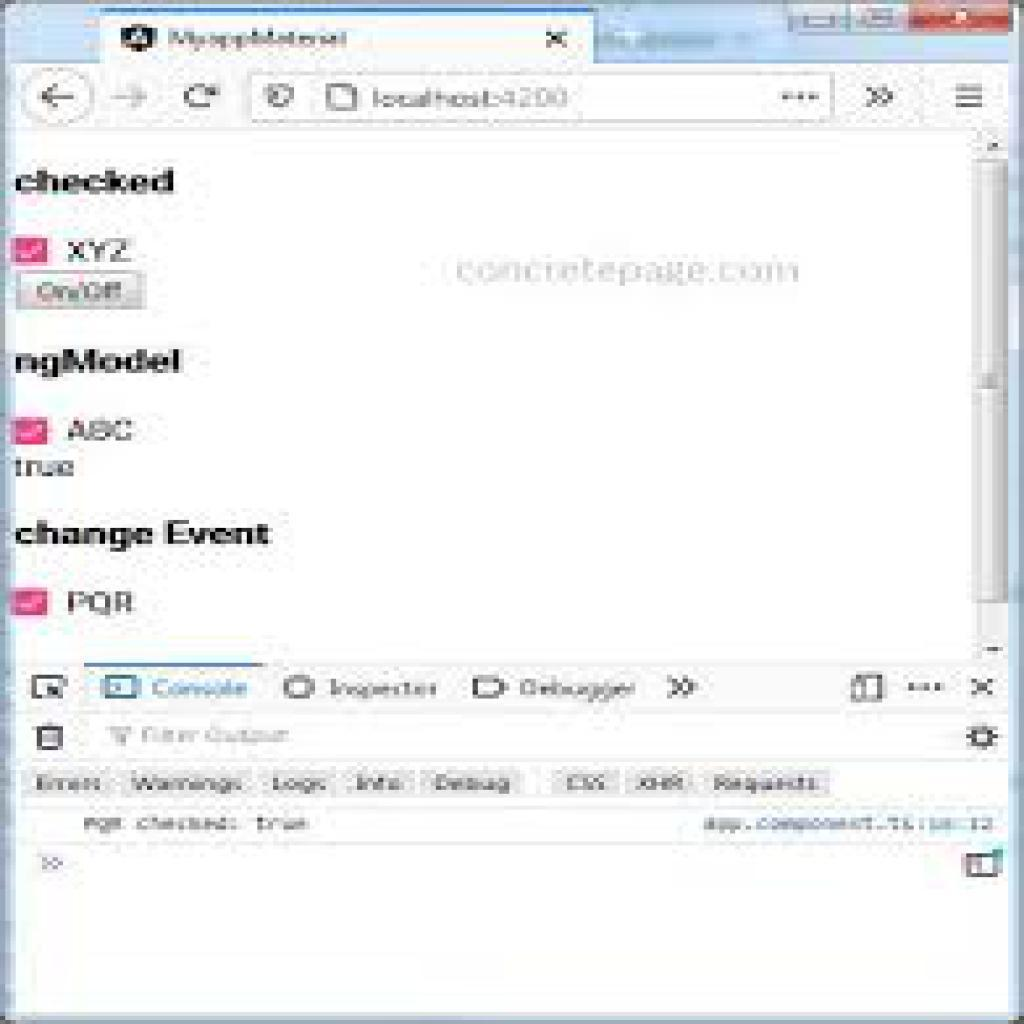button: (15, 271, 144, 313)
checkbox: (14, 416, 52, 450), (10, 238, 53, 267), (11, 588, 49, 617)
icon: (181, 79, 230, 118), (100, 672, 150, 706), (27, 670, 75, 705), (858, 83, 907, 115), (947, 79, 988, 114), (663, 671, 705, 705), (849, 671, 890, 705), (471, 672, 514, 703), (31, 716, 65, 754), (281, 671, 320, 704), (110, 82, 149, 112), (323, 85, 361, 115), (261, 81, 296, 113), (963, 724, 999, 754), (38, 83, 76, 111), (966, 671, 1000, 702), (903, 679, 950, 699), (782, 89, 821, 108)
